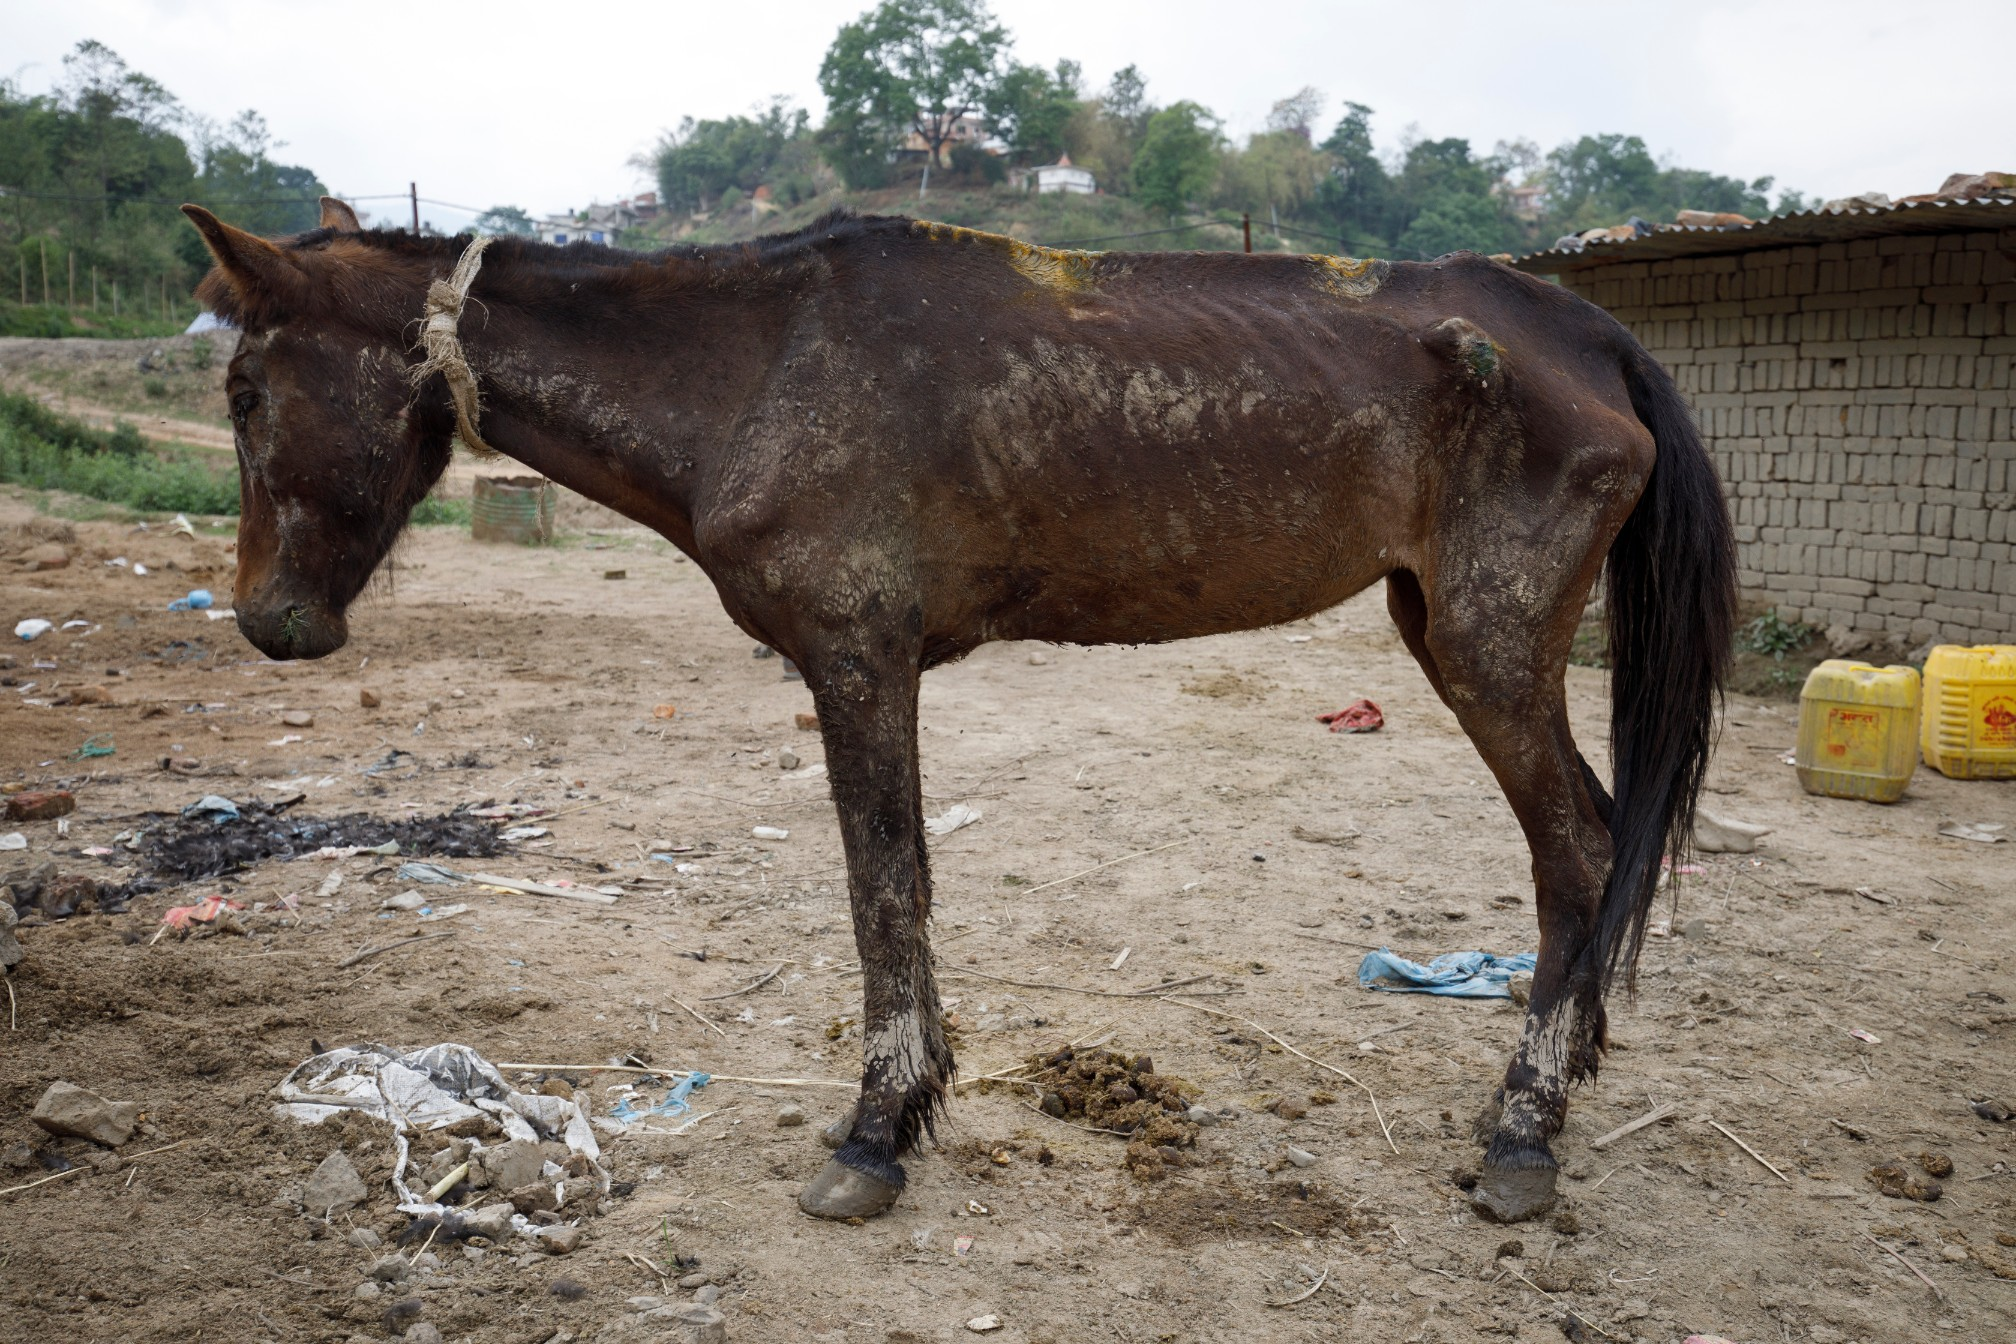equine: (145, 100, 1849, 1294)
